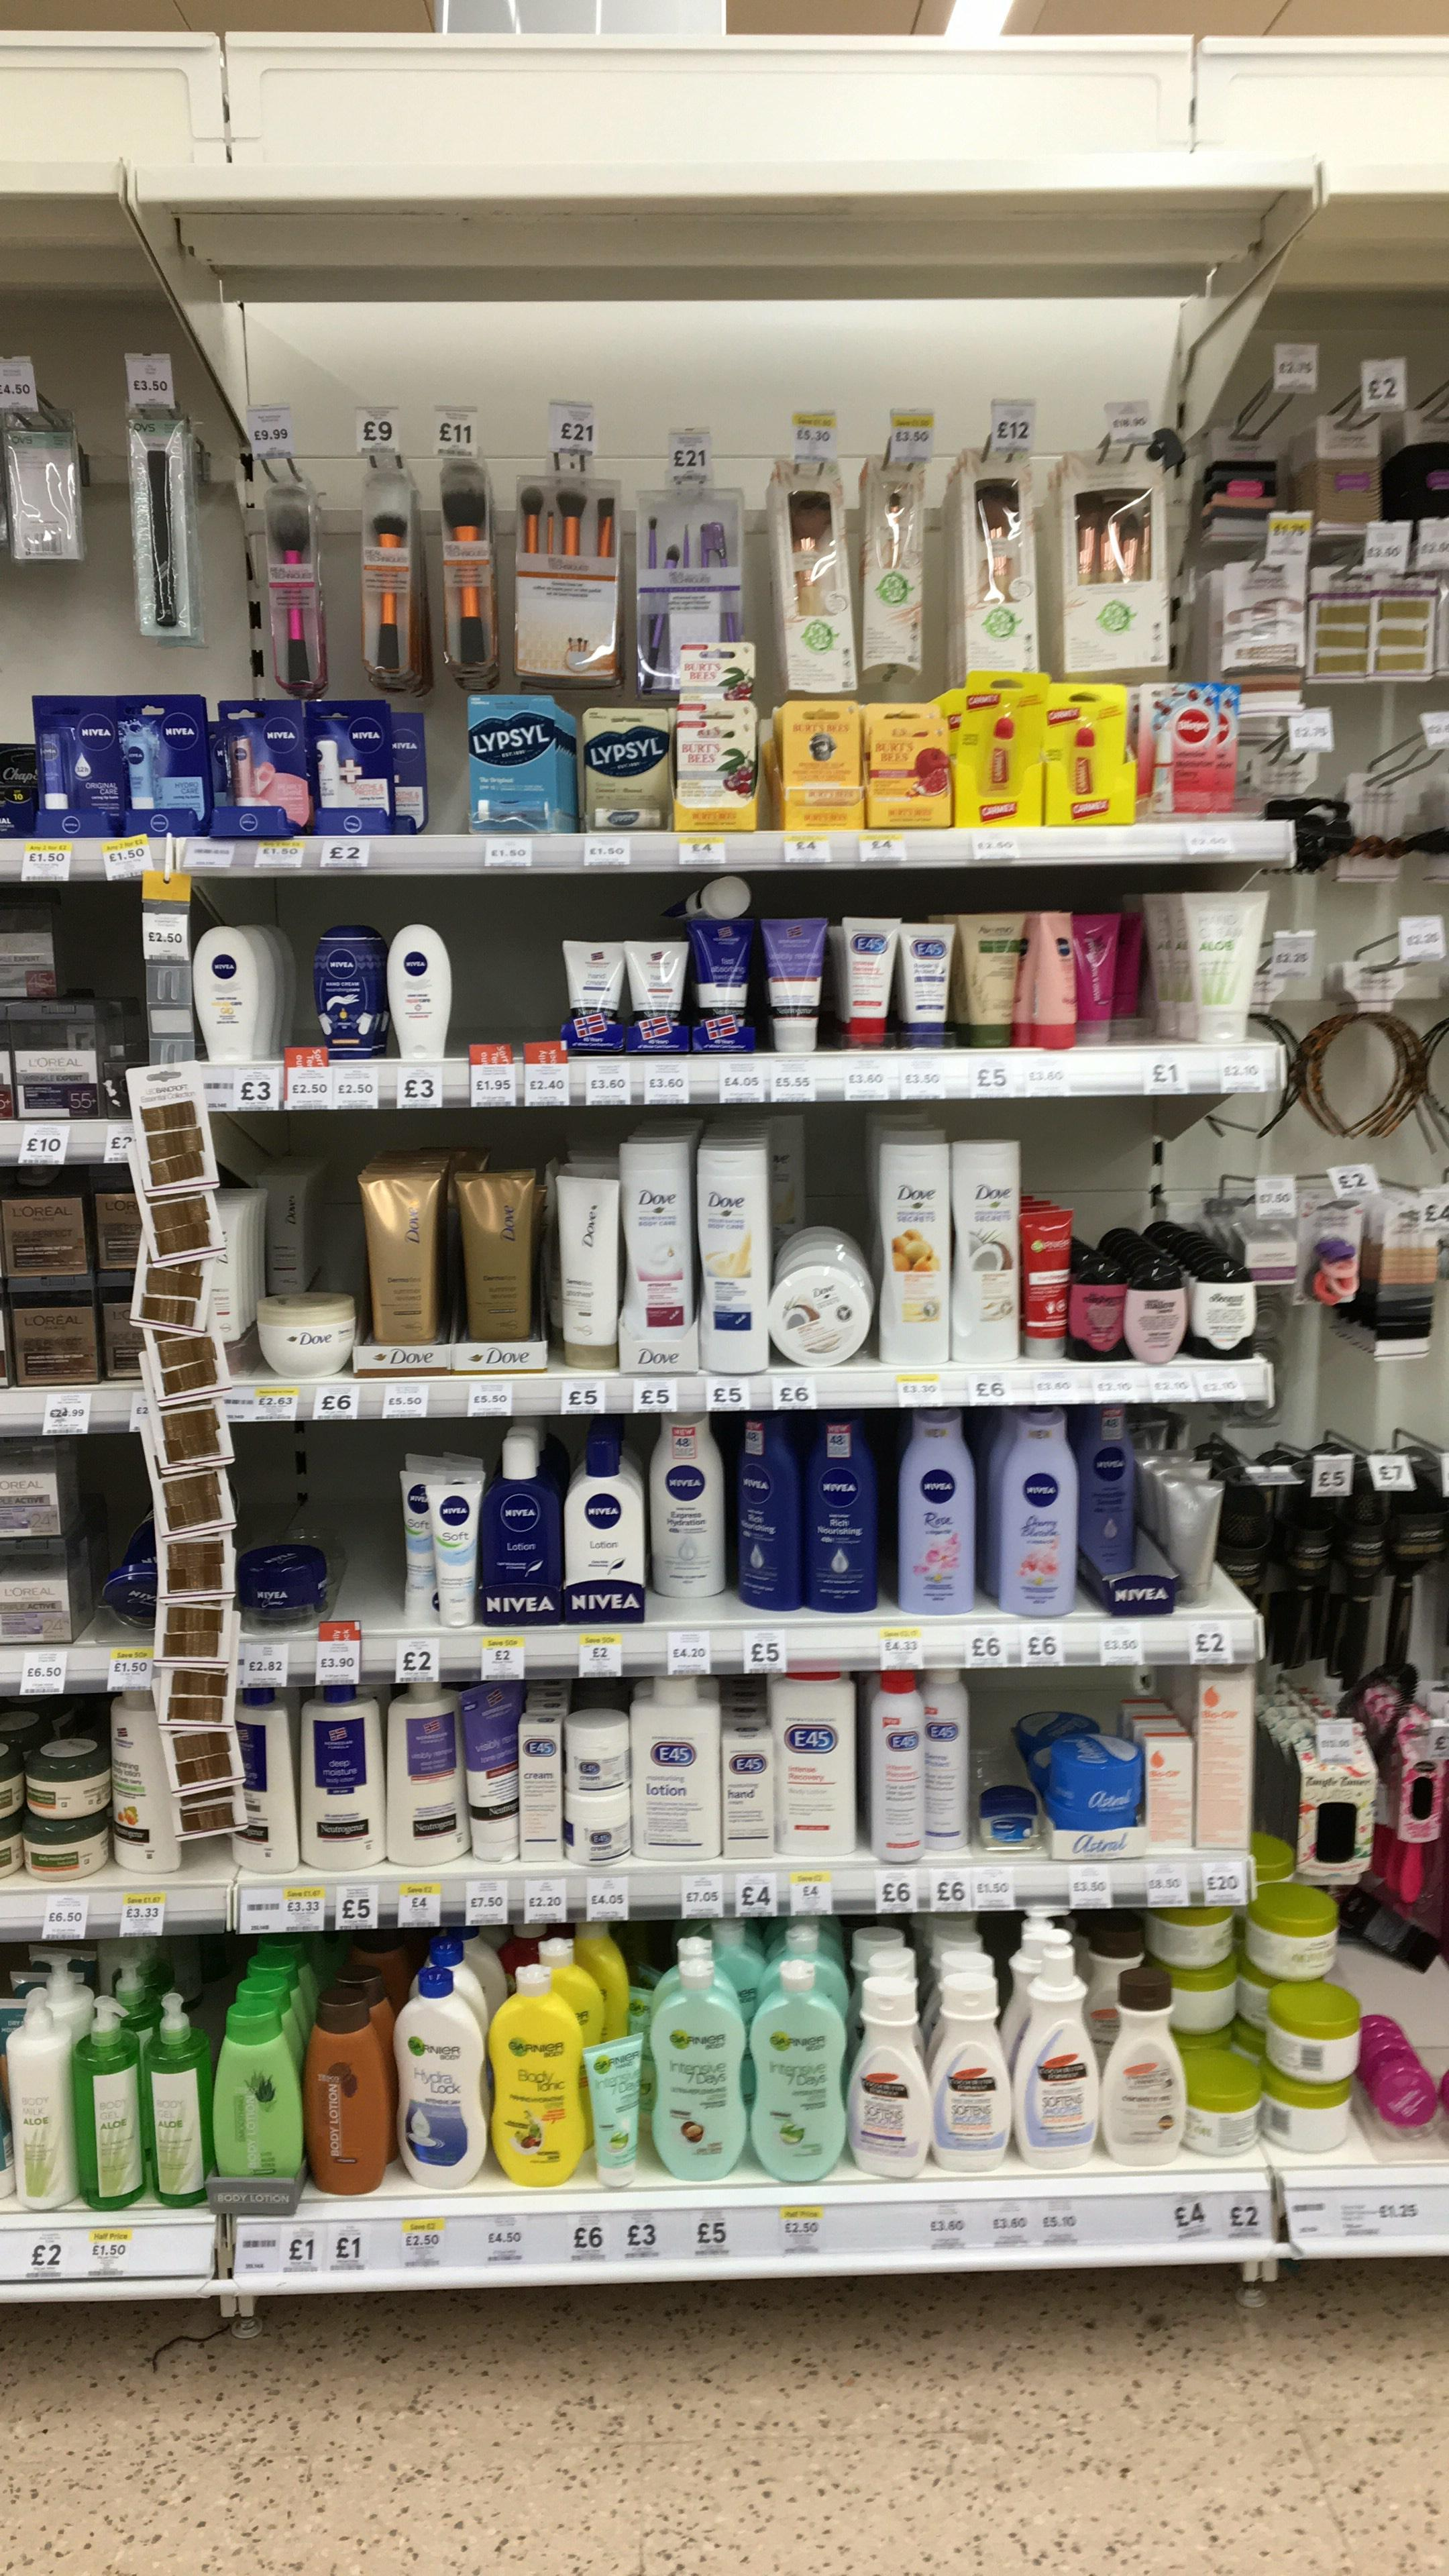misalignment: (586, 2028, 639, 2197), (1023, 908, 1076, 1058), (660, 872, 768, 922)
